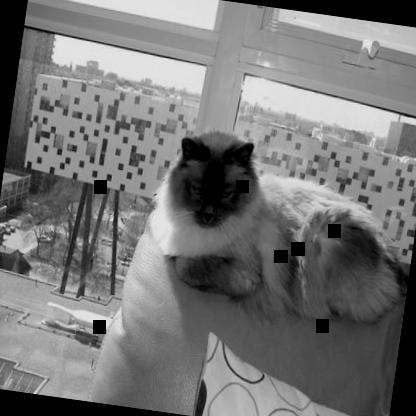cat: (143, 122, 415, 330)
